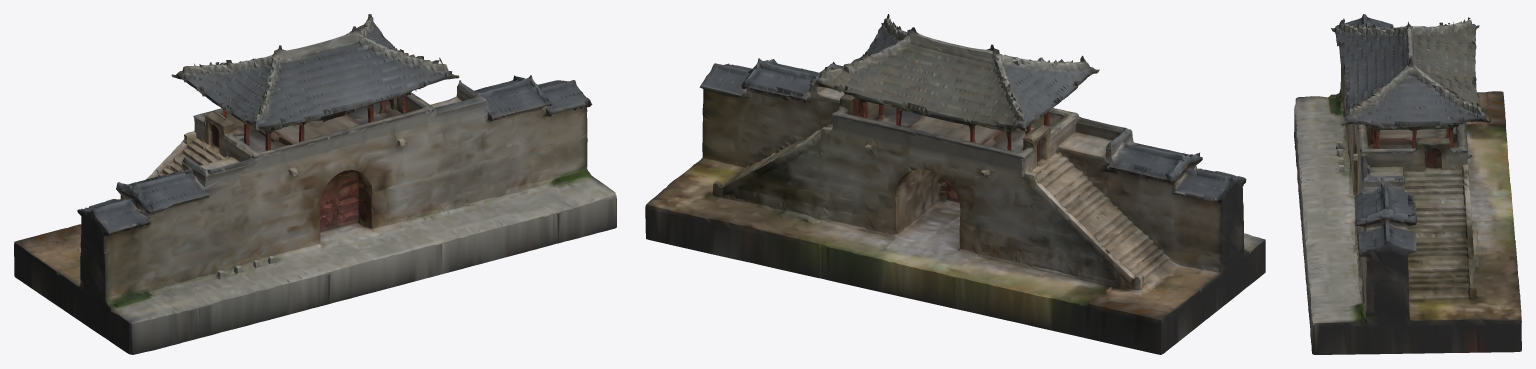
Rendered from geonchunmun.glb.
3 renders of one model, left to right at view 1: azimuth 30°, elevation 25°; view 2: azimuth 150°, elevation 25°; view 3: azimuth 270°, elevation 25°, orthographic. The views are drawn at different scales.
Size of the model in its own units: 1.01 by 0.4127 by 0.4203.
